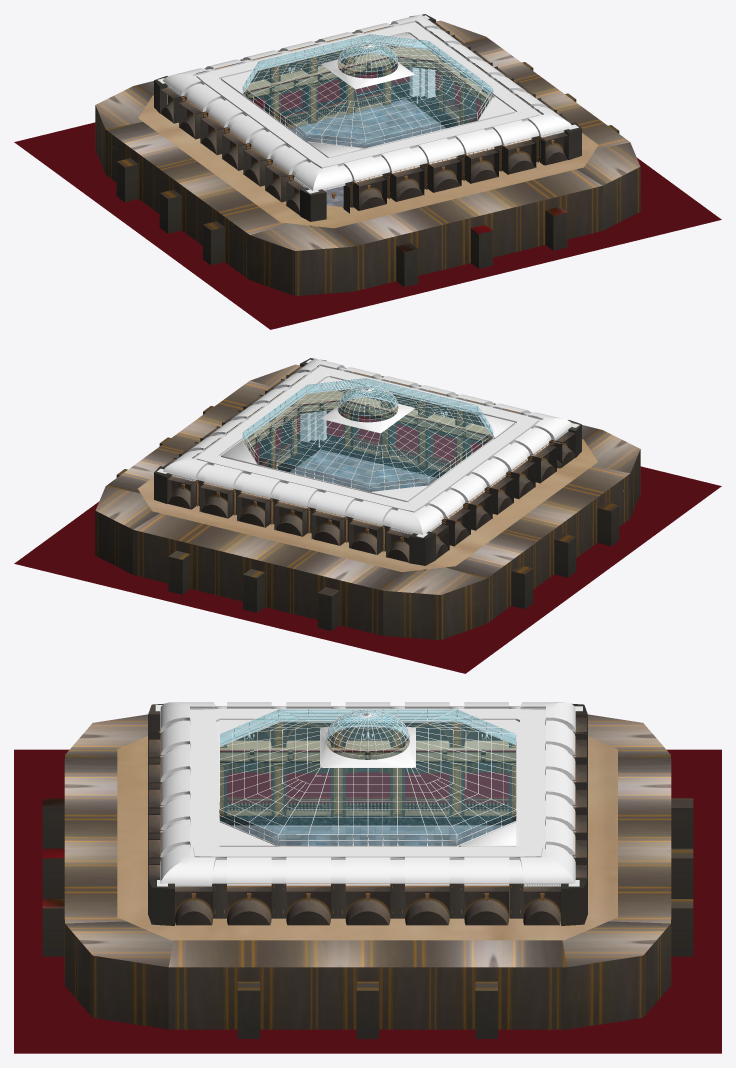
File: Museum_NOlights.gltf
The picture shows the model from 3 angles, top to bottom: view 1: azimuth 30°, elevation 25°; view 2: azimuth 150°, elevation 25°; view 3: azimuth 270°, elevation 25°; orthographic projection. The views are drawn at different scales.
Visible parts, largest first — view 1: Plane.027, Plane.001, Plane.004, Cube, Plane, Plane.019, Plane.002, Plane.003, Plane.121, Plane.030, Plane.120, Plane.029 (+17 smaller); view 2: Plane.027, Plane.001, Plane.004, Plane, Cube, Plane.019, Plane.002, Plane.003, Plane.121, Plane.030, Plane.120, Plane.016 (+13 smaller); view 3: Plane.027, Plane.001, Plane.004, Cube, Plane, Plane.019, Plane.002, Plane.003, Plane.121, Plane.120, Plane.030, Plane.016 (+20 smaller).
Part boxes in pixels (x1,y1,x2,y2): Plane.027: [95, 20, 640, 295]; Plane.001: [14, 68, 721, 329]; Plane.004: [243, 34, 492, 139]; Cube: [138, 46, 598, 228]; Plane: [193, 20, 543, 168]; Plane.019: [163, 14, 572, 190]; Plane.002: [154, 14, 581, 226]; Plane.003: [243, 34, 492, 139]; Plane.121: [258, 99, 475, 206]; Plane.030: [242, 35, 493, 147]; Plane.120: [280, 80, 487, 151]; Plane.029: [242, 34, 493, 148]; Plane.027: [95, 364, 640, 639]; Plane.001: [14, 412, 721, 673]; Plane.004: [243, 378, 492, 483]; Plane: [192, 364, 542, 512]; Cube: [138, 390, 597, 571]; Plane.019: [163, 358, 572, 534]; Plane.002: [154, 358, 581, 570]; Plane.003: [243, 378, 492, 483]; Plane.121: [290, 449, 474, 518]; Plane.030: [242, 379, 493, 491]; Plane.120: [258, 433, 454, 477]; Plane.016: [194, 367, 551, 526]; Plane.027: [42, 714, 693, 1038]; Plane.001: [14, 749, 721, 1053]; Plane.004: [220, 709, 515, 833]; Cube: [117, 736, 617, 940]; Plane: [190, 707, 545, 859]; Plane.019: [160, 702, 575, 885]; Plane.002: [148, 703, 587, 925]; Plane.003: [219, 709, 516, 834]; Plane.121: [231, 825, 509, 915]; Plane.120: [220, 803, 515, 825]; Plane.030: [220, 710, 515, 845]; Plane.016: [166, 706, 569, 883].
Bounding box in the file's own units: 41.4 × 12 × 40.74.
Materials: 10 (7 with a texture image).
